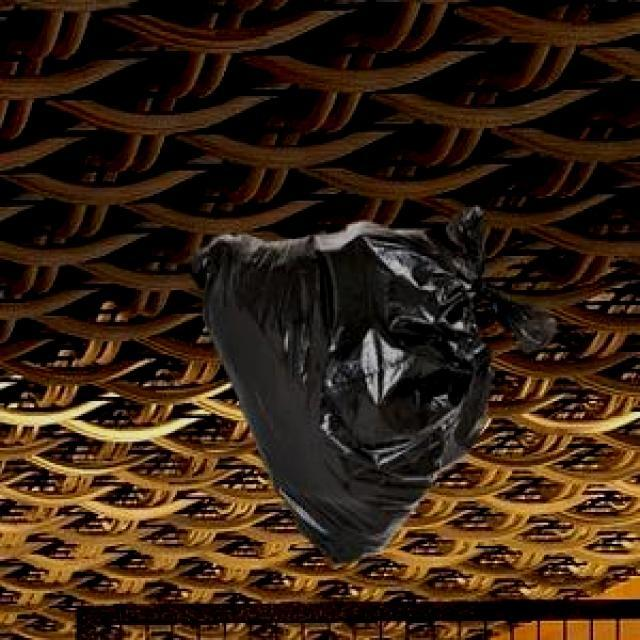Trashbag: (180, 201, 563, 573)
